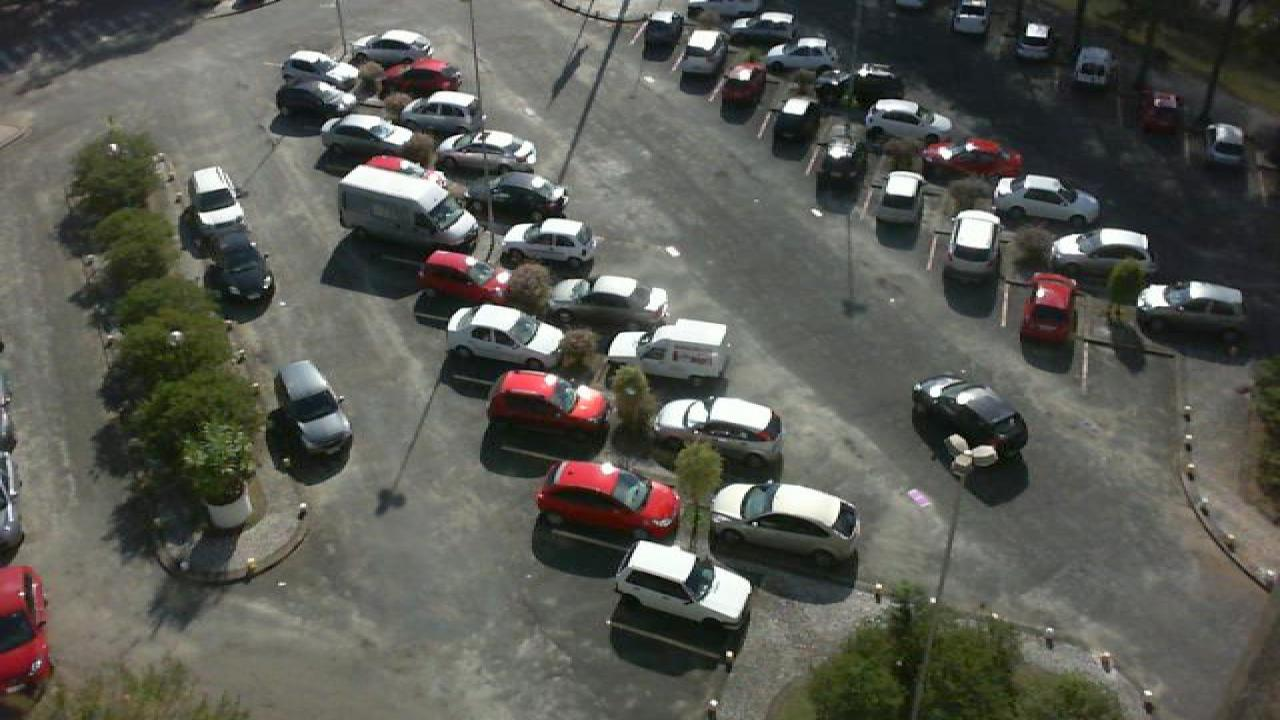Car: (612, 538, 756, 636), (706, 479, 862, 559), (336, 163, 484, 246), (534, 458, 682, 538), (910, 373, 1028, 454), (650, 395, 784, 465), (484, 369, 610, 435), (444, 304, 566, 369), (272, 359, 354, 454), (0, 564, 54, 698), (546, 276, 670, 330), (1136, 280, 1254, 330), (642, 318, 730, 385), (994, 173, 1102, 225), (418, 250, 514, 306), (184, 167, 250, 243), (204, 229, 272, 300), (1050, 228, 1154, 274), (1020, 272, 1080, 346), (504, 219, 598, 266), (318, 114, 414, 160), (440, 130, 540, 174), (922, 136, 1022, 180), (944, 208, 1004, 281), (864, 98, 956, 144), (476, 171, 572, 215), (402, 91, 488, 133), (378, 56, 464, 94), (876, 171, 926, 232), (276, 79, 360, 115), (820, 62, 904, 97), (278, 50, 364, 84), (760, 37, 840, 73), (350, 29, 434, 63), (816, 123, 866, 180), (680, 28, 730, 78), (1202, 121, 1256, 164), (772, 98, 820, 145), (722, 62, 766, 109), (1072, 45, 1118, 89), (730, 11, 794, 42), (638, 9, 684, 52), (1016, 21, 1058, 63), (1144, 90, 1184, 133), (952, 0, 990, 35)
